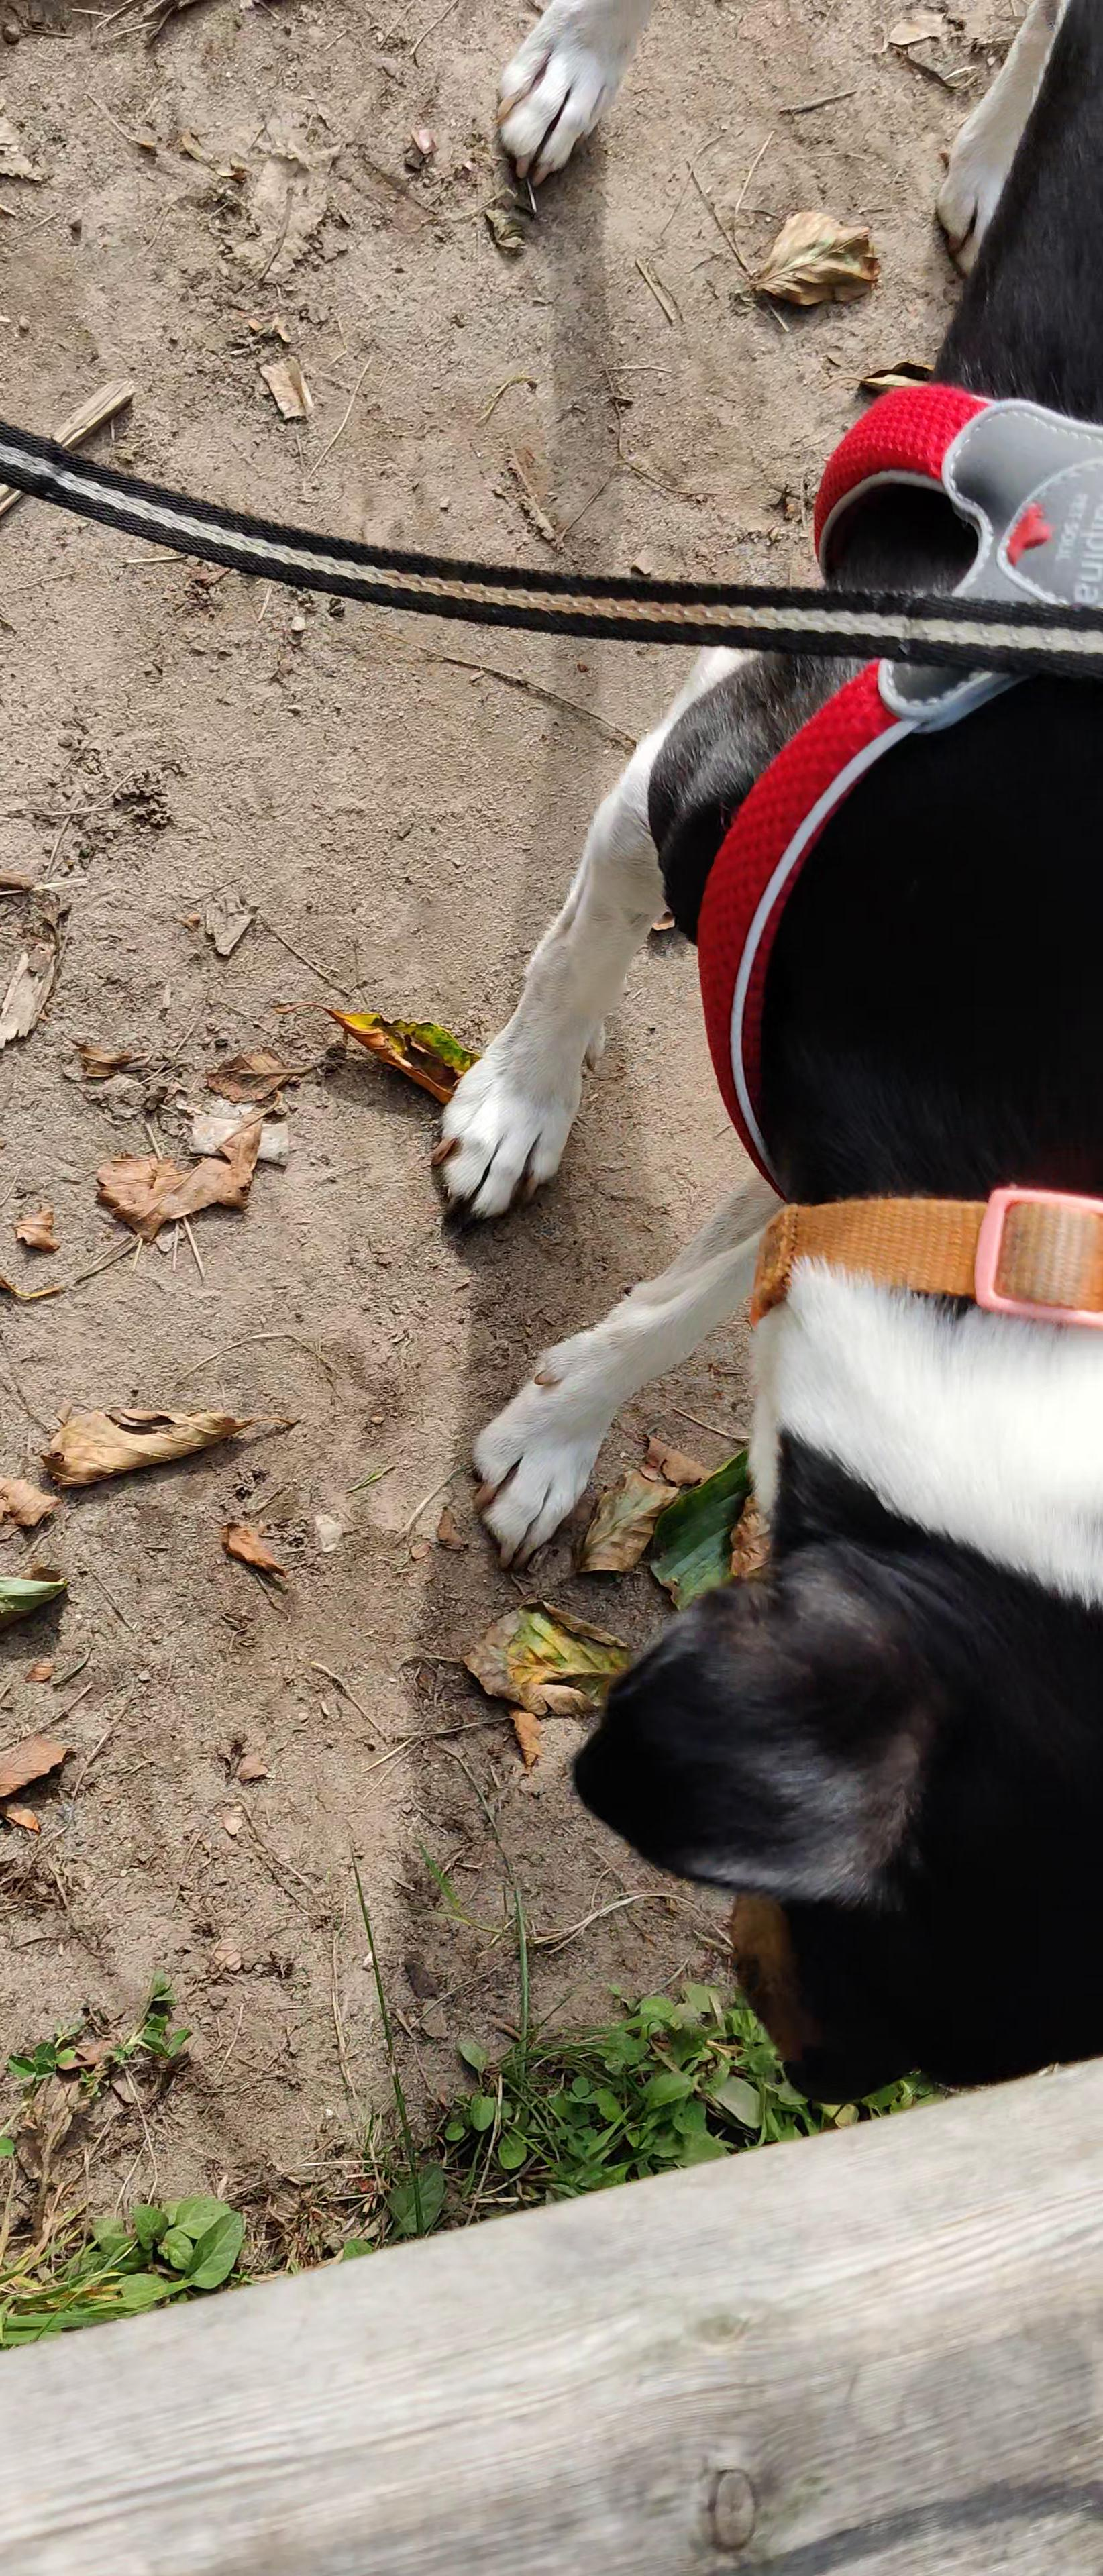Dog: (381, 0, 1103, 2246)
